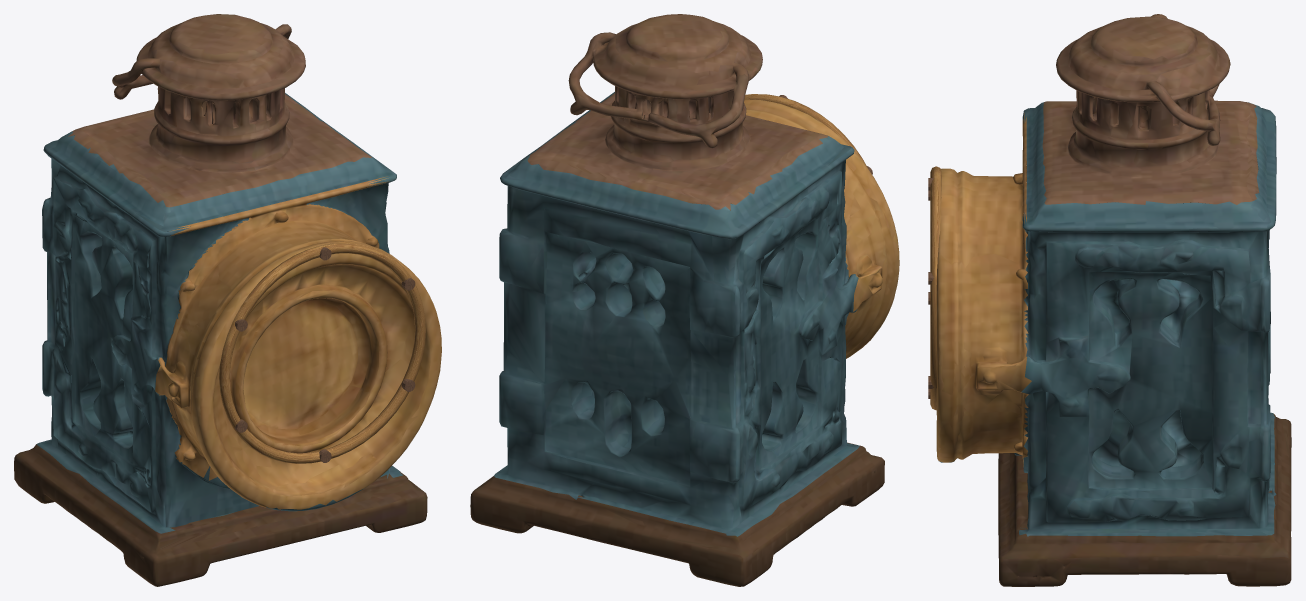
Rendered from aholo-projector-refined.glb.
3 renders of one model, left to right at view 1: azimuth 30°, elevation 25°; view 2: azimuth 150°, elevation 25°; view 3: azimuth 270°, elevation 25°, orthographic. The views are drawn at different scales.
Parts seen in each view (by area): view 1: Chased lens collar, Enamel shell, Vent crown, Blackened foot, Raised lens rim; view 2: Enamel shell, Vent crown, Blackened foot, Chased lens collar, Raised lens rim; view 3: Enamel shell, Vent crown, Chased lens collar, Blackened foot, Raised lens rim.
Boxes of the visible parts, x1,y1,x2,y2 form: Chased lens collar: (155,176,441,509); Enamel shell: (36,93,402,533); Vent crown: (68,14,371,207); Blackened foot: (14,444,427,586); Raised lens rim: (219,242,425,463); Enamel shell: (494,92,859,536); Vent crown: (527,14,828,210); Blackened foot: (470,442,884,586); Chased lens collar: (730,99,899,358); Raised lens rim: (744,94,867,167); Enamel shell: (939,102,1276,536); Vent crown: (1042,14,1259,204); Chased lens collar: (936,113,1031,466); Blackened foot: (998,413,1291,586); Raised lens rim: (930,166,941,410).
Size of the model in its own units: 0.2128 by 0.35 by 0.2371.
4 materials, 4 textured.
